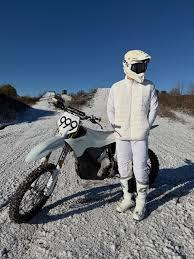Helmet: (122, 51, 151, 84)
